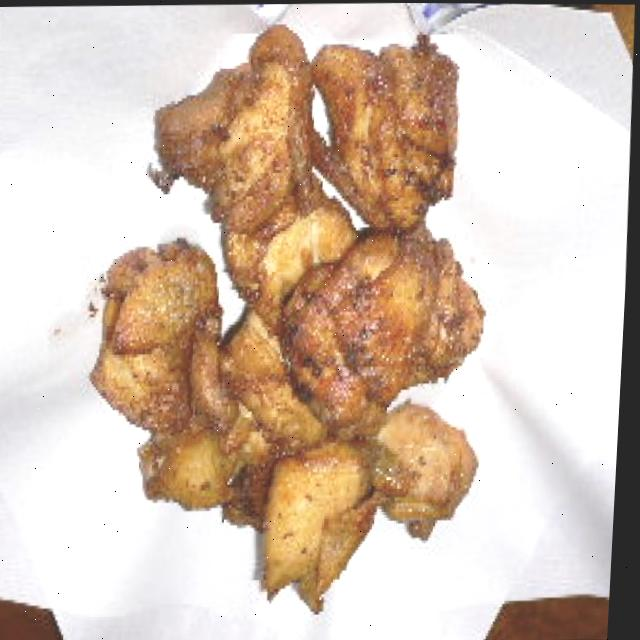鸡肉料理 含炸鸡: (18, 0, 565, 640)
